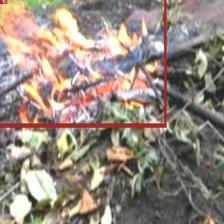fire: (0, 0, 166, 127)
